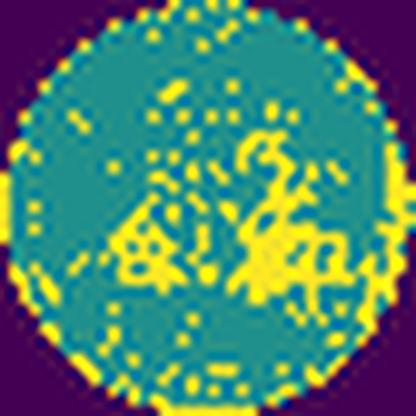Loc: (222, 128, 355, 317), (110, 192, 188, 290)
